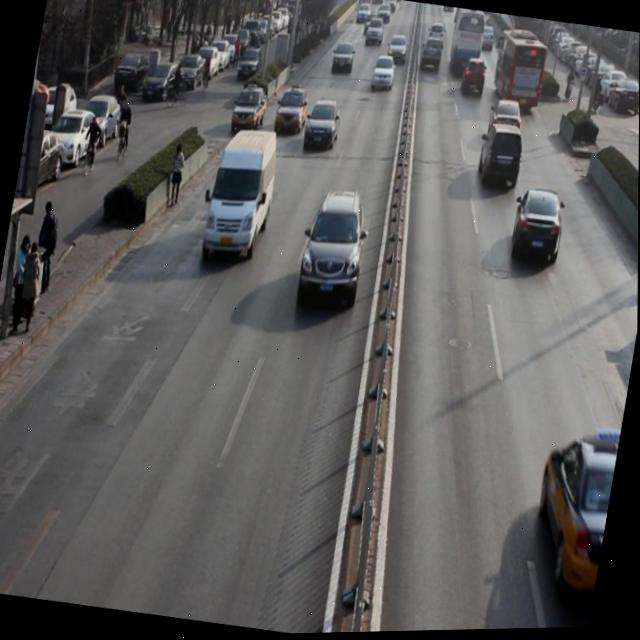car: (525, 421, 622, 605), (295, 188, 375, 316), (507, 184, 571, 276), (475, 124, 528, 198), (229, 83, 271, 139), (300, 101, 342, 157), (485, 99, 526, 153), (272, 84, 310, 139), (417, 35, 445, 78), (459, 59, 488, 100), (370, 56, 398, 98), (330, 42, 357, 80), (385, 36, 409, 69), (364, 19, 384, 52)
truck: (200, 125, 284, 268)
van: (488, 29, 549, 118), (445, 9, 486, 80)
